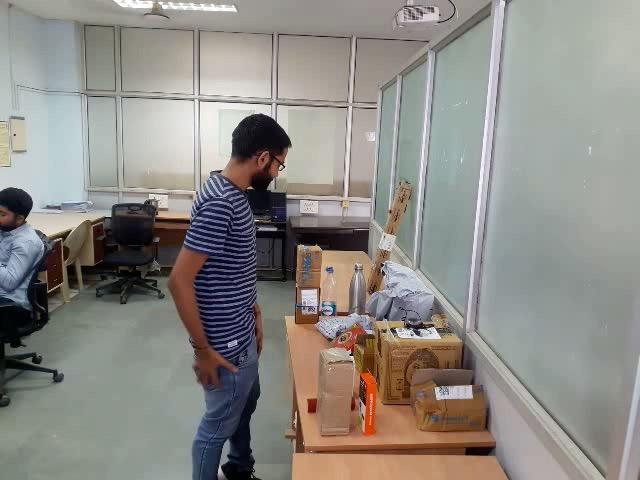Normal: (0, 0, 618, 417)
